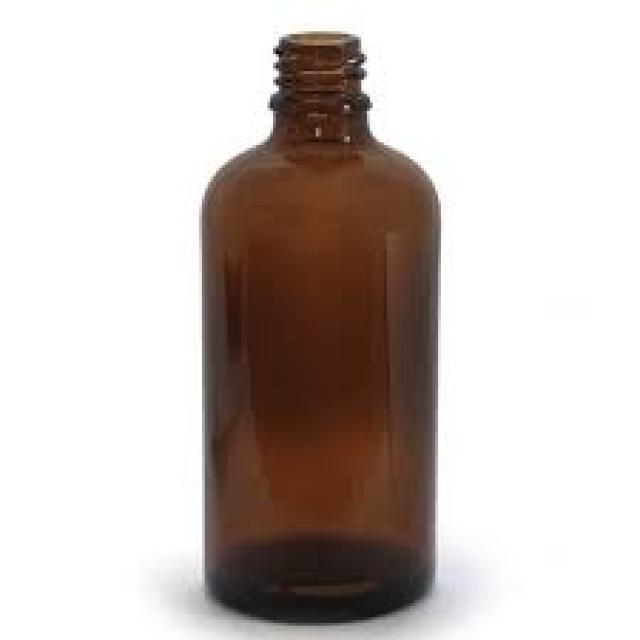glass: (199, 31, 432, 623)
